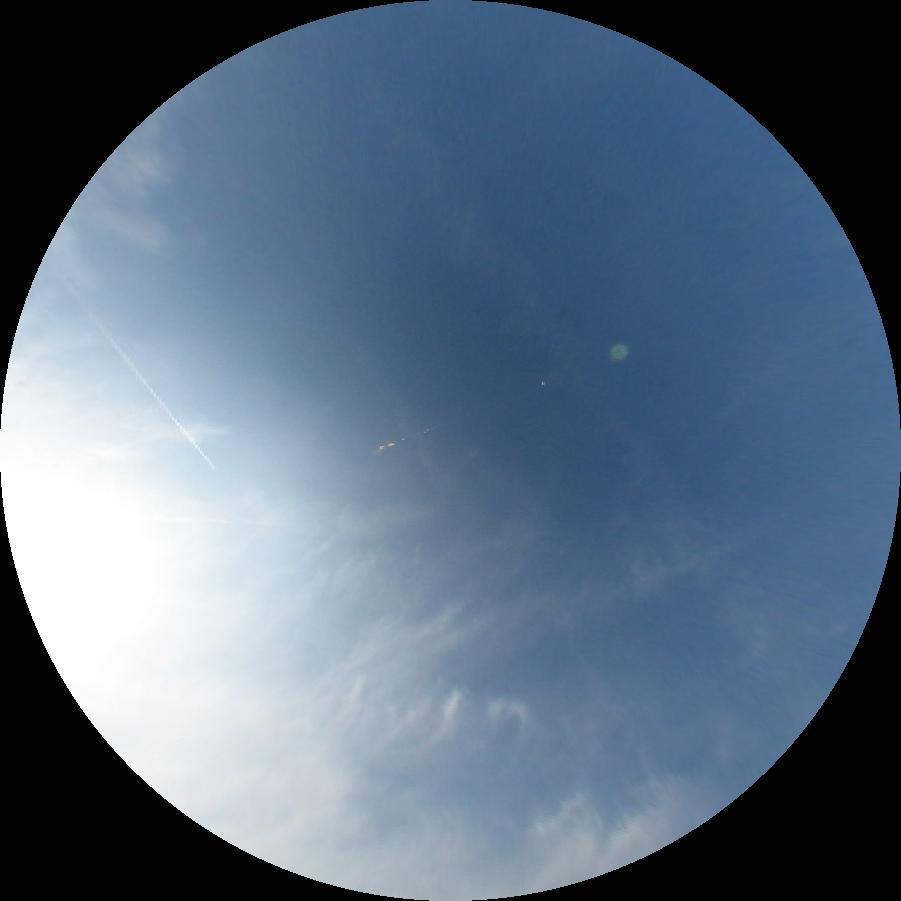contrail veryold: (365, 118, 853, 720)
contrail young: (55, 271, 218, 474)
parasite: (130, 512, 272, 525)
sun: (2, 482, 209, 760)
